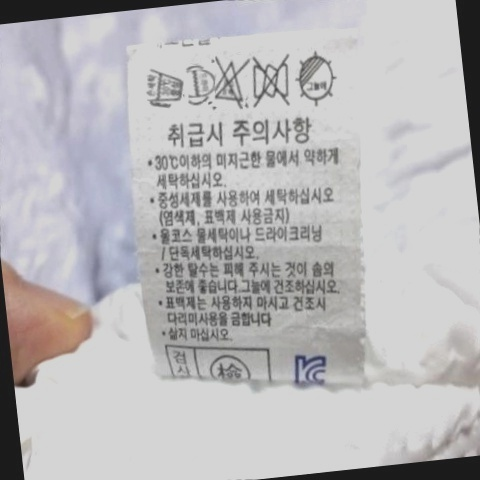DN_wring: (249, 52, 298, 107)
dry_clean: (182, 64, 216, 101)
hand_wash: (140, 61, 188, 108)
non_chlorine_bleach: (210, 53, 250, 107)
shade_dry: (292, 48, 343, 109)
